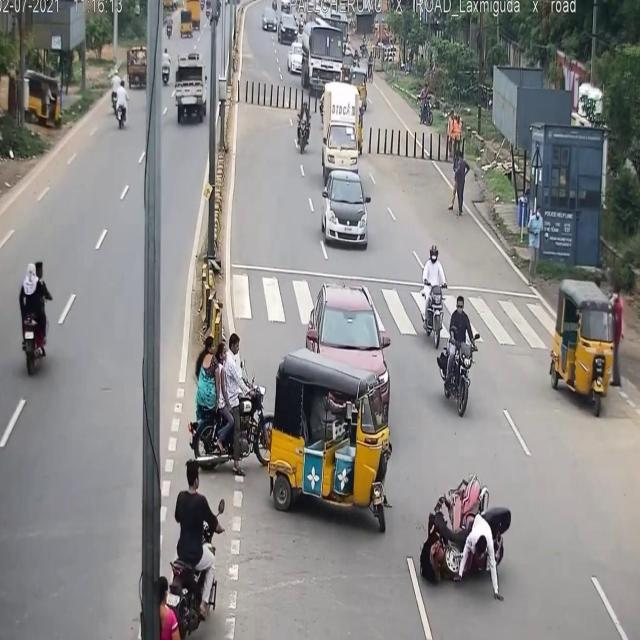accident: (416, 464, 515, 608)
non_accident: (284, 19, 373, 253), (261, 4, 298, 46), (176, 0, 204, 46)
